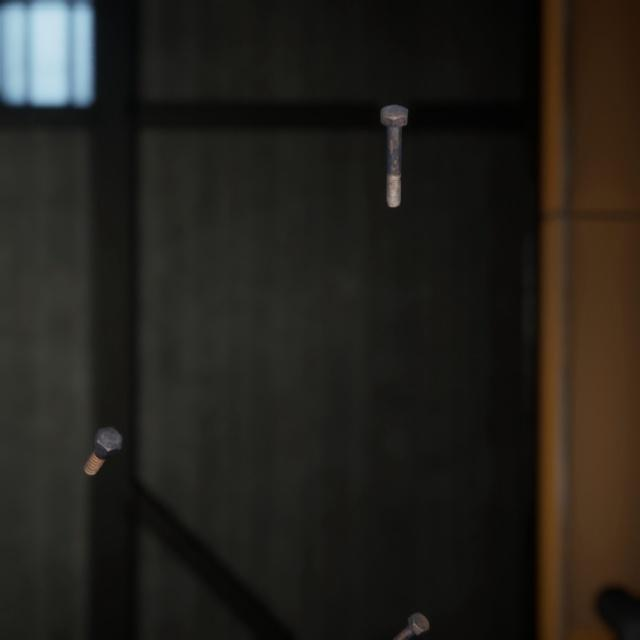bolt: (375, 87, 412, 199), (364, 584, 434, 640), (79, 401, 127, 459)
